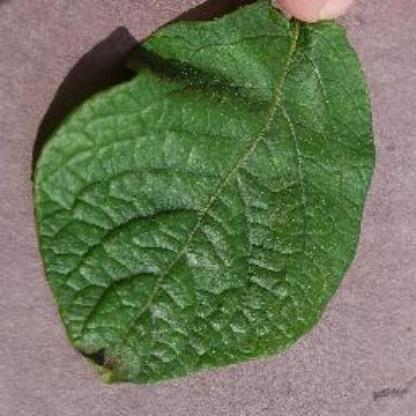Healthy-plant: (25, 8, 380, 388)
